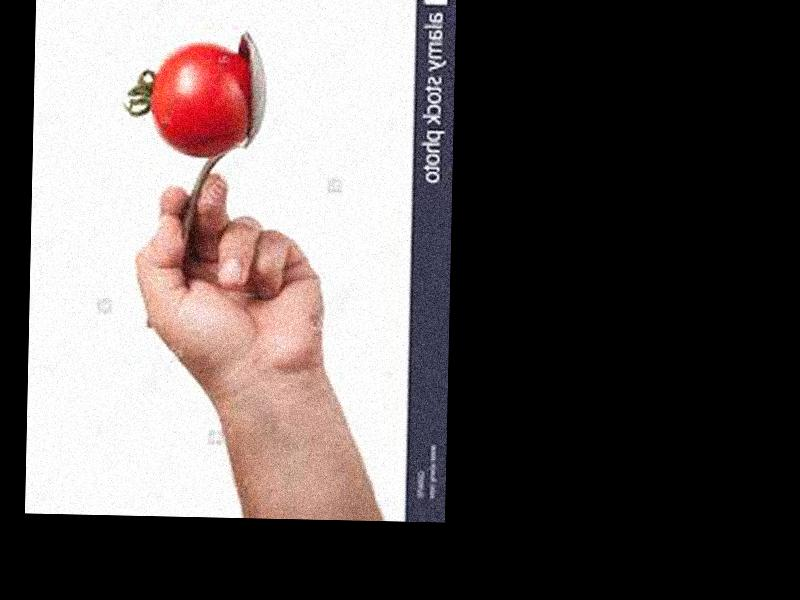Tomato: (149, 44, 249, 159)
